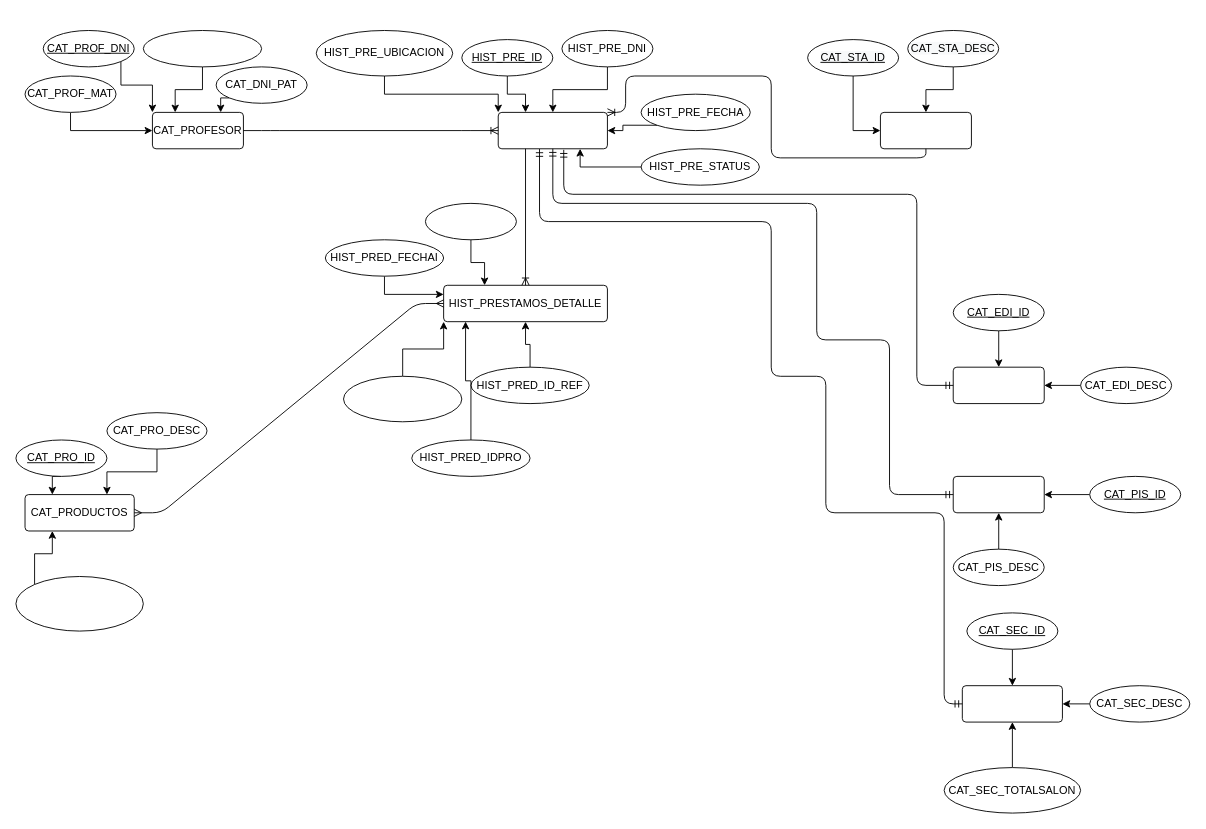
Some shapes in this 1206 by 829 pixel diagram are drawn without their labels. Each missing label, with the centre of its shape:
CAT_EDIFICIOS: point 998,385
CAT_PISOS: point 998,494
CAT_PRO_CANTIDAD: point 79,603
CAT_PRO_NOMBRE: point 202,48
CAT_SECCIONES: point 1011,703
CAT_STATUS: point 925,130
HIST_PRED_FECHE: point 402,398
HIST_PRED_ID: point 470,221
HIST_PRESTAMOS: point 552,130
